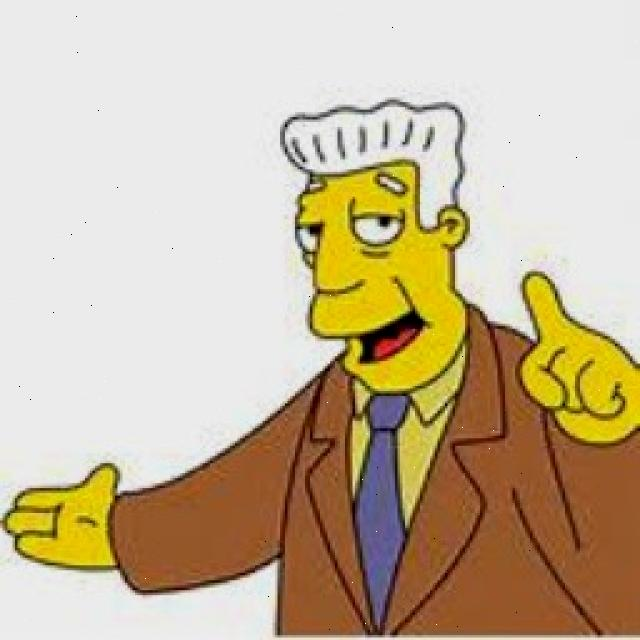Kent Brockman: (268, 86, 476, 402)
